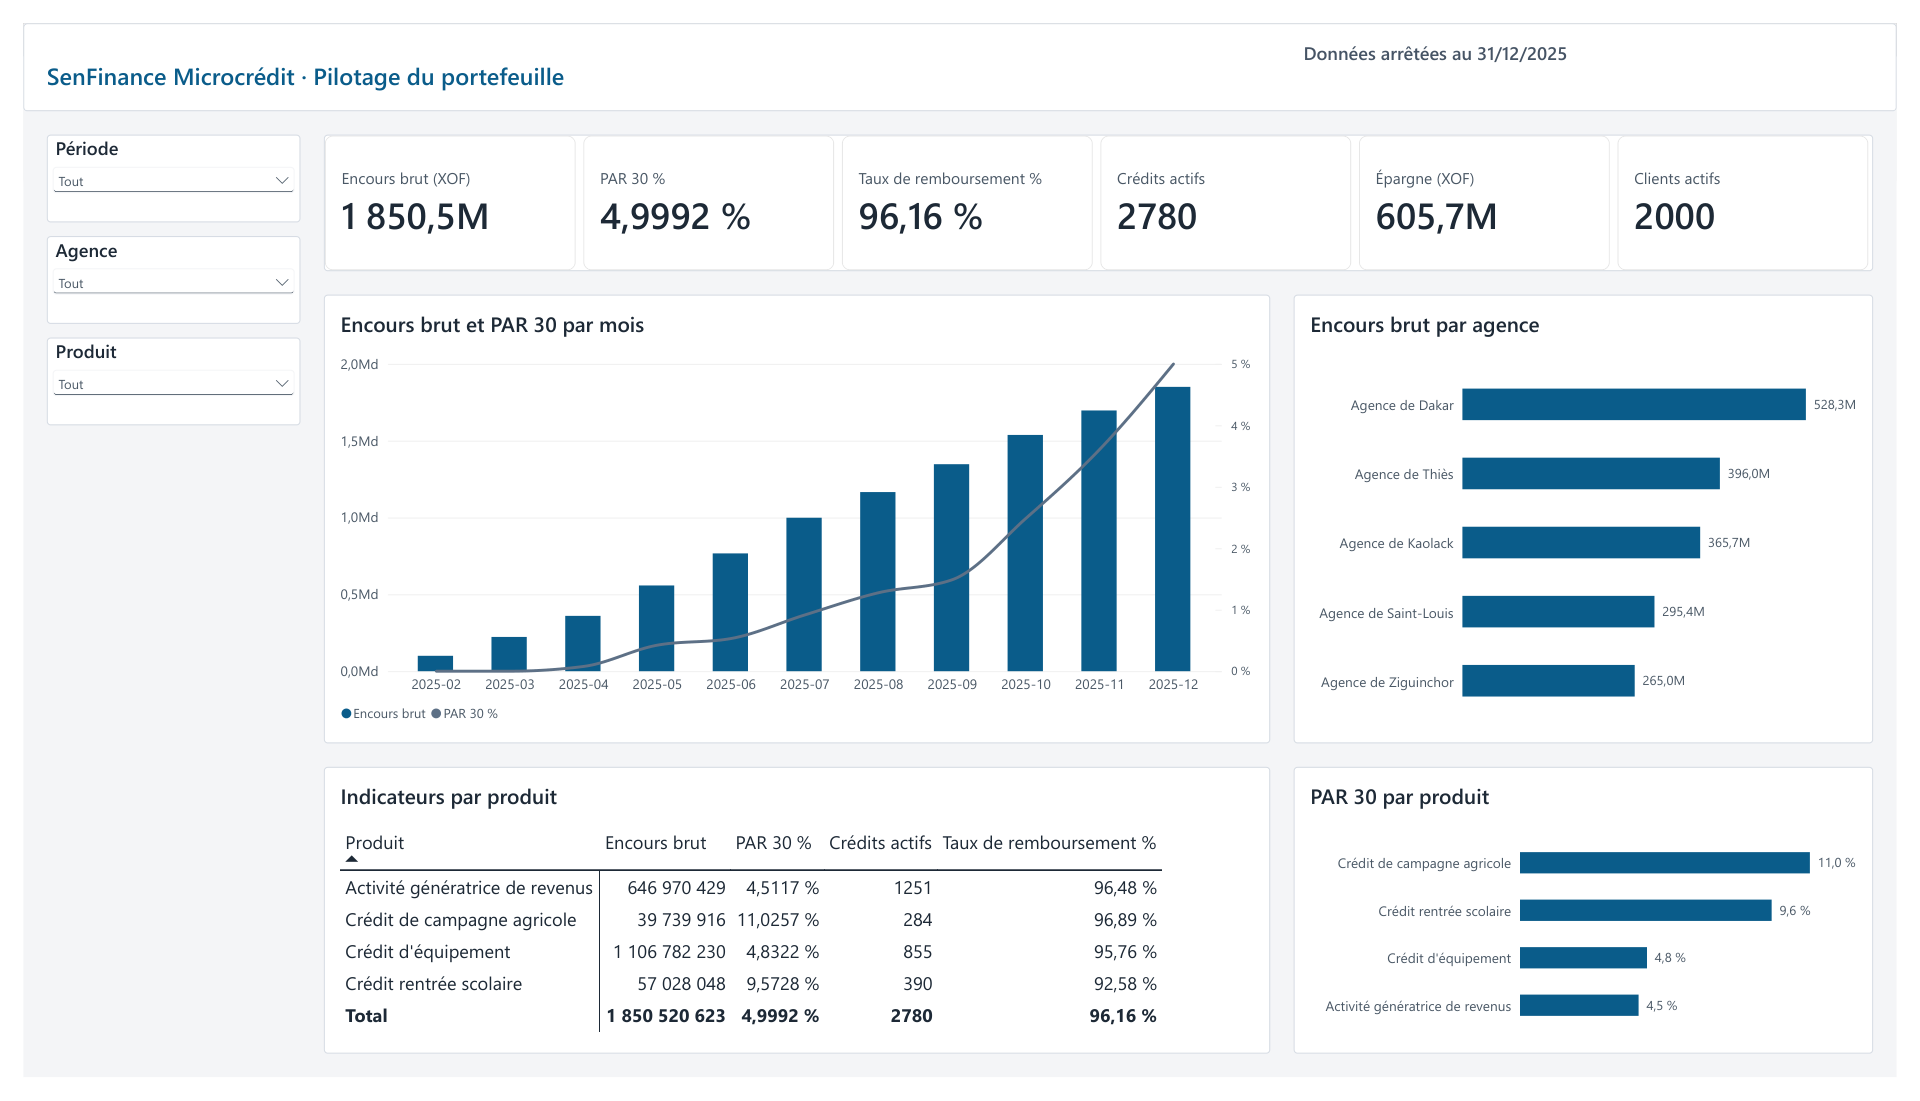

Layout of this report page (visuals, bound fields, positions):
{"tool":"powerbi","page":{"name":"Pilotage portefeuille","canvas":[1920,1080],"ordinal":0},"visuals":[{"type":"shape","box":[0,0,1920,90],"z":0},{"type":"textbox","box":[24,20,1000,60],"z":1000},{"type":"cardVisual","fields":{"Data":["_Mesures.Bandeau arrêté"]},"box":[1296,10,600,40],"z":2000},{"type":"cardVisual","fields":{"Data":["_Mesures.Alerte fraîcheur"]},"box":[1296,50,600,34],"z":3000},{"type":"slicer","fields":{"Values":["dim_date.annee_mois"]},"box":[24,114,260,90],"z":4000},{"type":"slicer","fields":{"Values":["dim_agence.nom"]},"box":[24,218,260,90],"z":5000},{"type":"slicer","fields":{"Values":["dim_produit_credit.libelle"]},"box":[24,322,260,90],"z":6000},{"type":"cardVisual","fields":{"Data":["_Mesures.Encours brut","_Mesures.PAR 30 %","_Mesures.Taux de remboursement %","_Mesures.Crédits actifs","_Mesures.Encours d'épargne","_Mesures.Clients actifs"]},"box":[308,114,1588,140],"z":7000},{"type":"lineClusteredColumnComboChart","title":"Encours brut et PAR 30 par mois","fields":{"Category":["dim_date.annee_mois"],"Y":["_Mesures.Encours brut"],"Y2":["_Mesures.PAR 30 %"]},"box":[308,278,970,460],"z":8000},{"type":"clusteredBarChart","title":"Encours brut par agence","fields":{"Category":["dim_agence.nom"],"Y":["_Mesures.Encours brut"]},"box":[1302,278,594,460],"z":9000},{"type":"pivotTable","title":"Indicateurs par produit","fields":{"Rows":["dim_produit_credit.libelle"],"Values":["_Mesures.Encours brut","_Mesures.PAR 30 %","_Mesures.Crédits actifs","_Mesures.Taux de remboursement %"]},"box":[308,762,970,294],"z":10000},{"type":"clusteredBarChart","title":"PAR 30 par produit","fields":{"Category":["dim_produit_credit.libelle"],"Y":["_Mesures.PAR 30 %"]},"box":[1302,762,594,294],"z":11000}]}

Visuals, with their boxes in screenshot pixels (x1, y1, x2, y2), scaled from the page's 1920x1080 canvas onto the 1920x1101 screenshot:
shape: box(0, 0, 1919, 92)
textbox: box(24, 20, 1024, 82)
cardVisual - _Mesures.Bandeau arrêté: box(1296, 10, 1896, 51)
cardVisual - _Mesures.Alerte fraîcheur: box(1296, 51, 1896, 86)
slicer - dim_date.annee_mois: box(24, 116, 284, 208)
slicer - dim_agence.nom: box(24, 222, 284, 314)
slicer - dim_produit_credit.libelle: box(24, 328, 284, 420)
cardVisual - _Mesures.Encours brut x _Mesures.PAR 30 %: box(308, 116, 1896, 259)
"Encours brut et PAR 30 par mois" lineClusteredColumnComboChart: box(308, 283, 1278, 752)
"Encours brut par agence" clusteredBarChart: box(1302, 283, 1896, 752)
"Indicateurs par produit" pivotTable: box(308, 777, 1278, 1077)
"PAR 30 par produit" clusteredBarChart: box(1302, 777, 1896, 1077)
